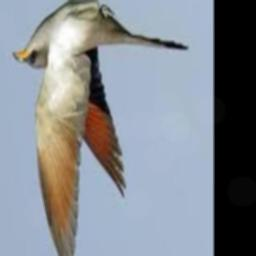Cuckoo: (14, 1, 188, 256)
